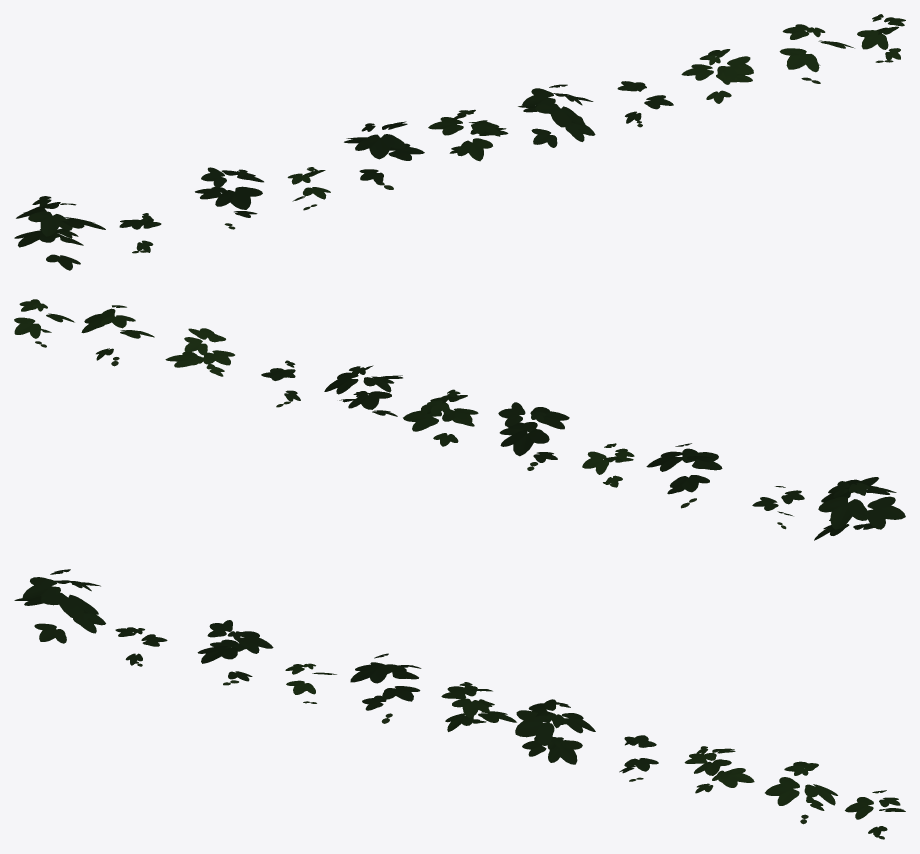
Rendered from ROW_01_SEG5_foliage.dae.
The picture shows the model from 3 angles, top to bottom: view 1: azimuth 30°, elevation 25°; view 2: azimuth 150°, elevation 25°; view 3: azimuth 330°, elevation 25°; orthographic projection.
Parts seen in each view (by area): view 1: ROW_01_SEG5_foliage; view 2: ROW_01_SEG5_foliage; view 3: ROW_01_SEG5_foliage.
Boxes of the visible parts, left/top/right/bottom form: ROW_01_SEG5_foliage: left=14, top=14, right=905, bottom=270; ROW_01_SEG5_foliage: left=14, top=299, right=905, bottom=540; ROW_01_SEG5_foliage: left=14, top=569, right=905, bottom=839.
Size of the model in its own units: 3.27 by 0.3207 by 0.2399.
